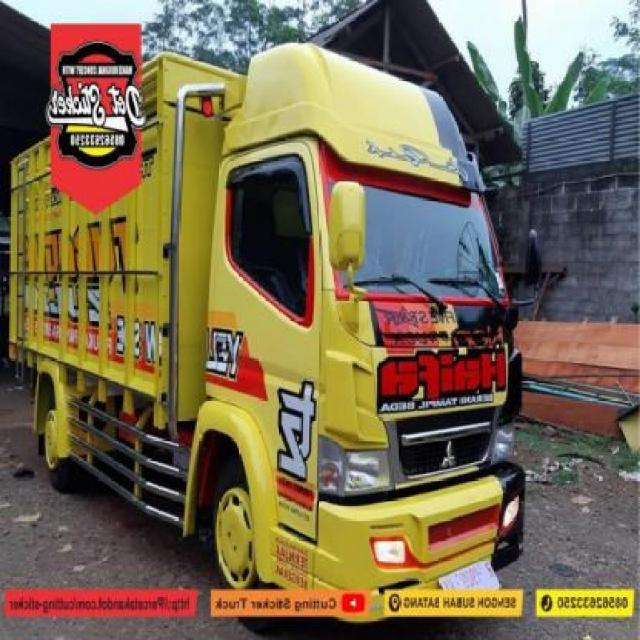truck: (1, 41, 529, 604)
